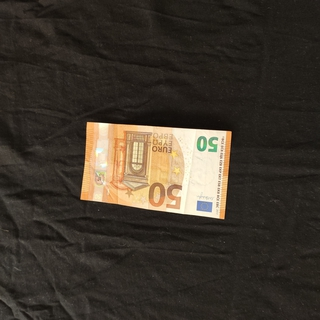50EUROFront: (79, 121, 232, 220)
